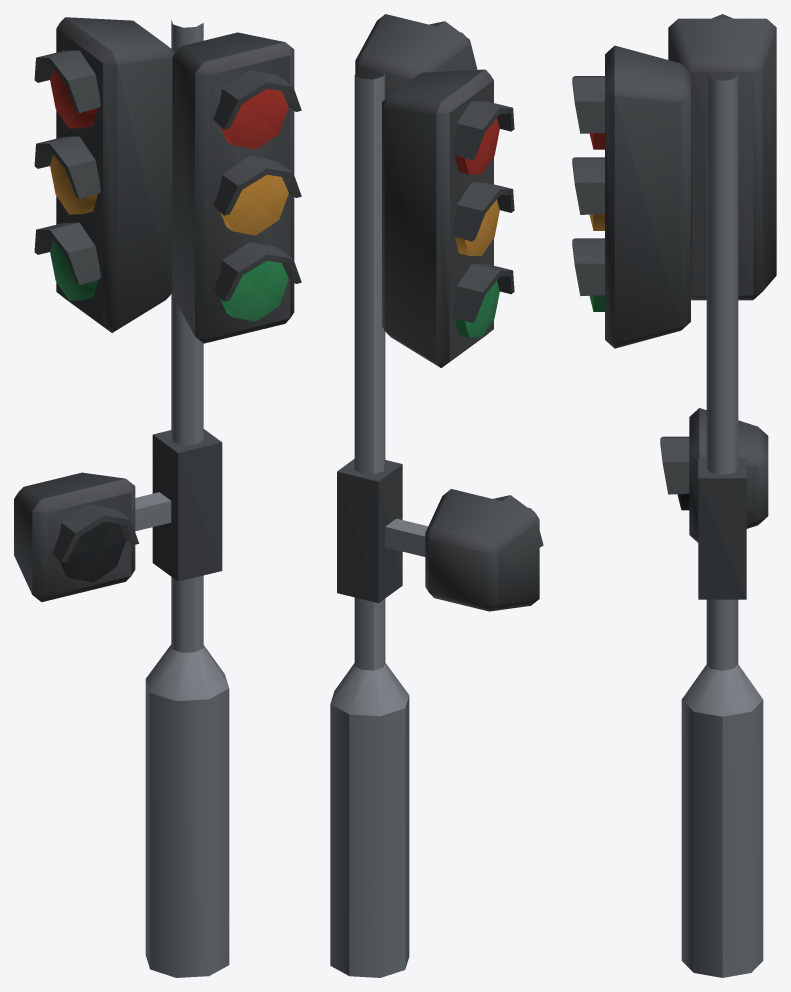
File: traffic-light.high.78463b38.glb
The picture shows the model from 3 angles, left to right: view 1: azimuth 30°, elevation 25°; view 2: azimuth 150°, elevation 25°; view 3: azimuth 270°, elevation 25°; orthographic projection. The views are drawn at different scales.
Visible parts, largest first — view 1: traffic-light; view 2: traffic-light; view 3: traffic-light.
Part boxes in pixels (x1=…): traffic-light: x1=14, y1=17, x2=301, y2=977; traffic-light: x1=330, y1=14, x2=543, y2=977; traffic-light: x1=572, y1=14, x2=776, y2=977.
Bounding box in the file's own units: 1.08 × 4.5 × 0.9289.
